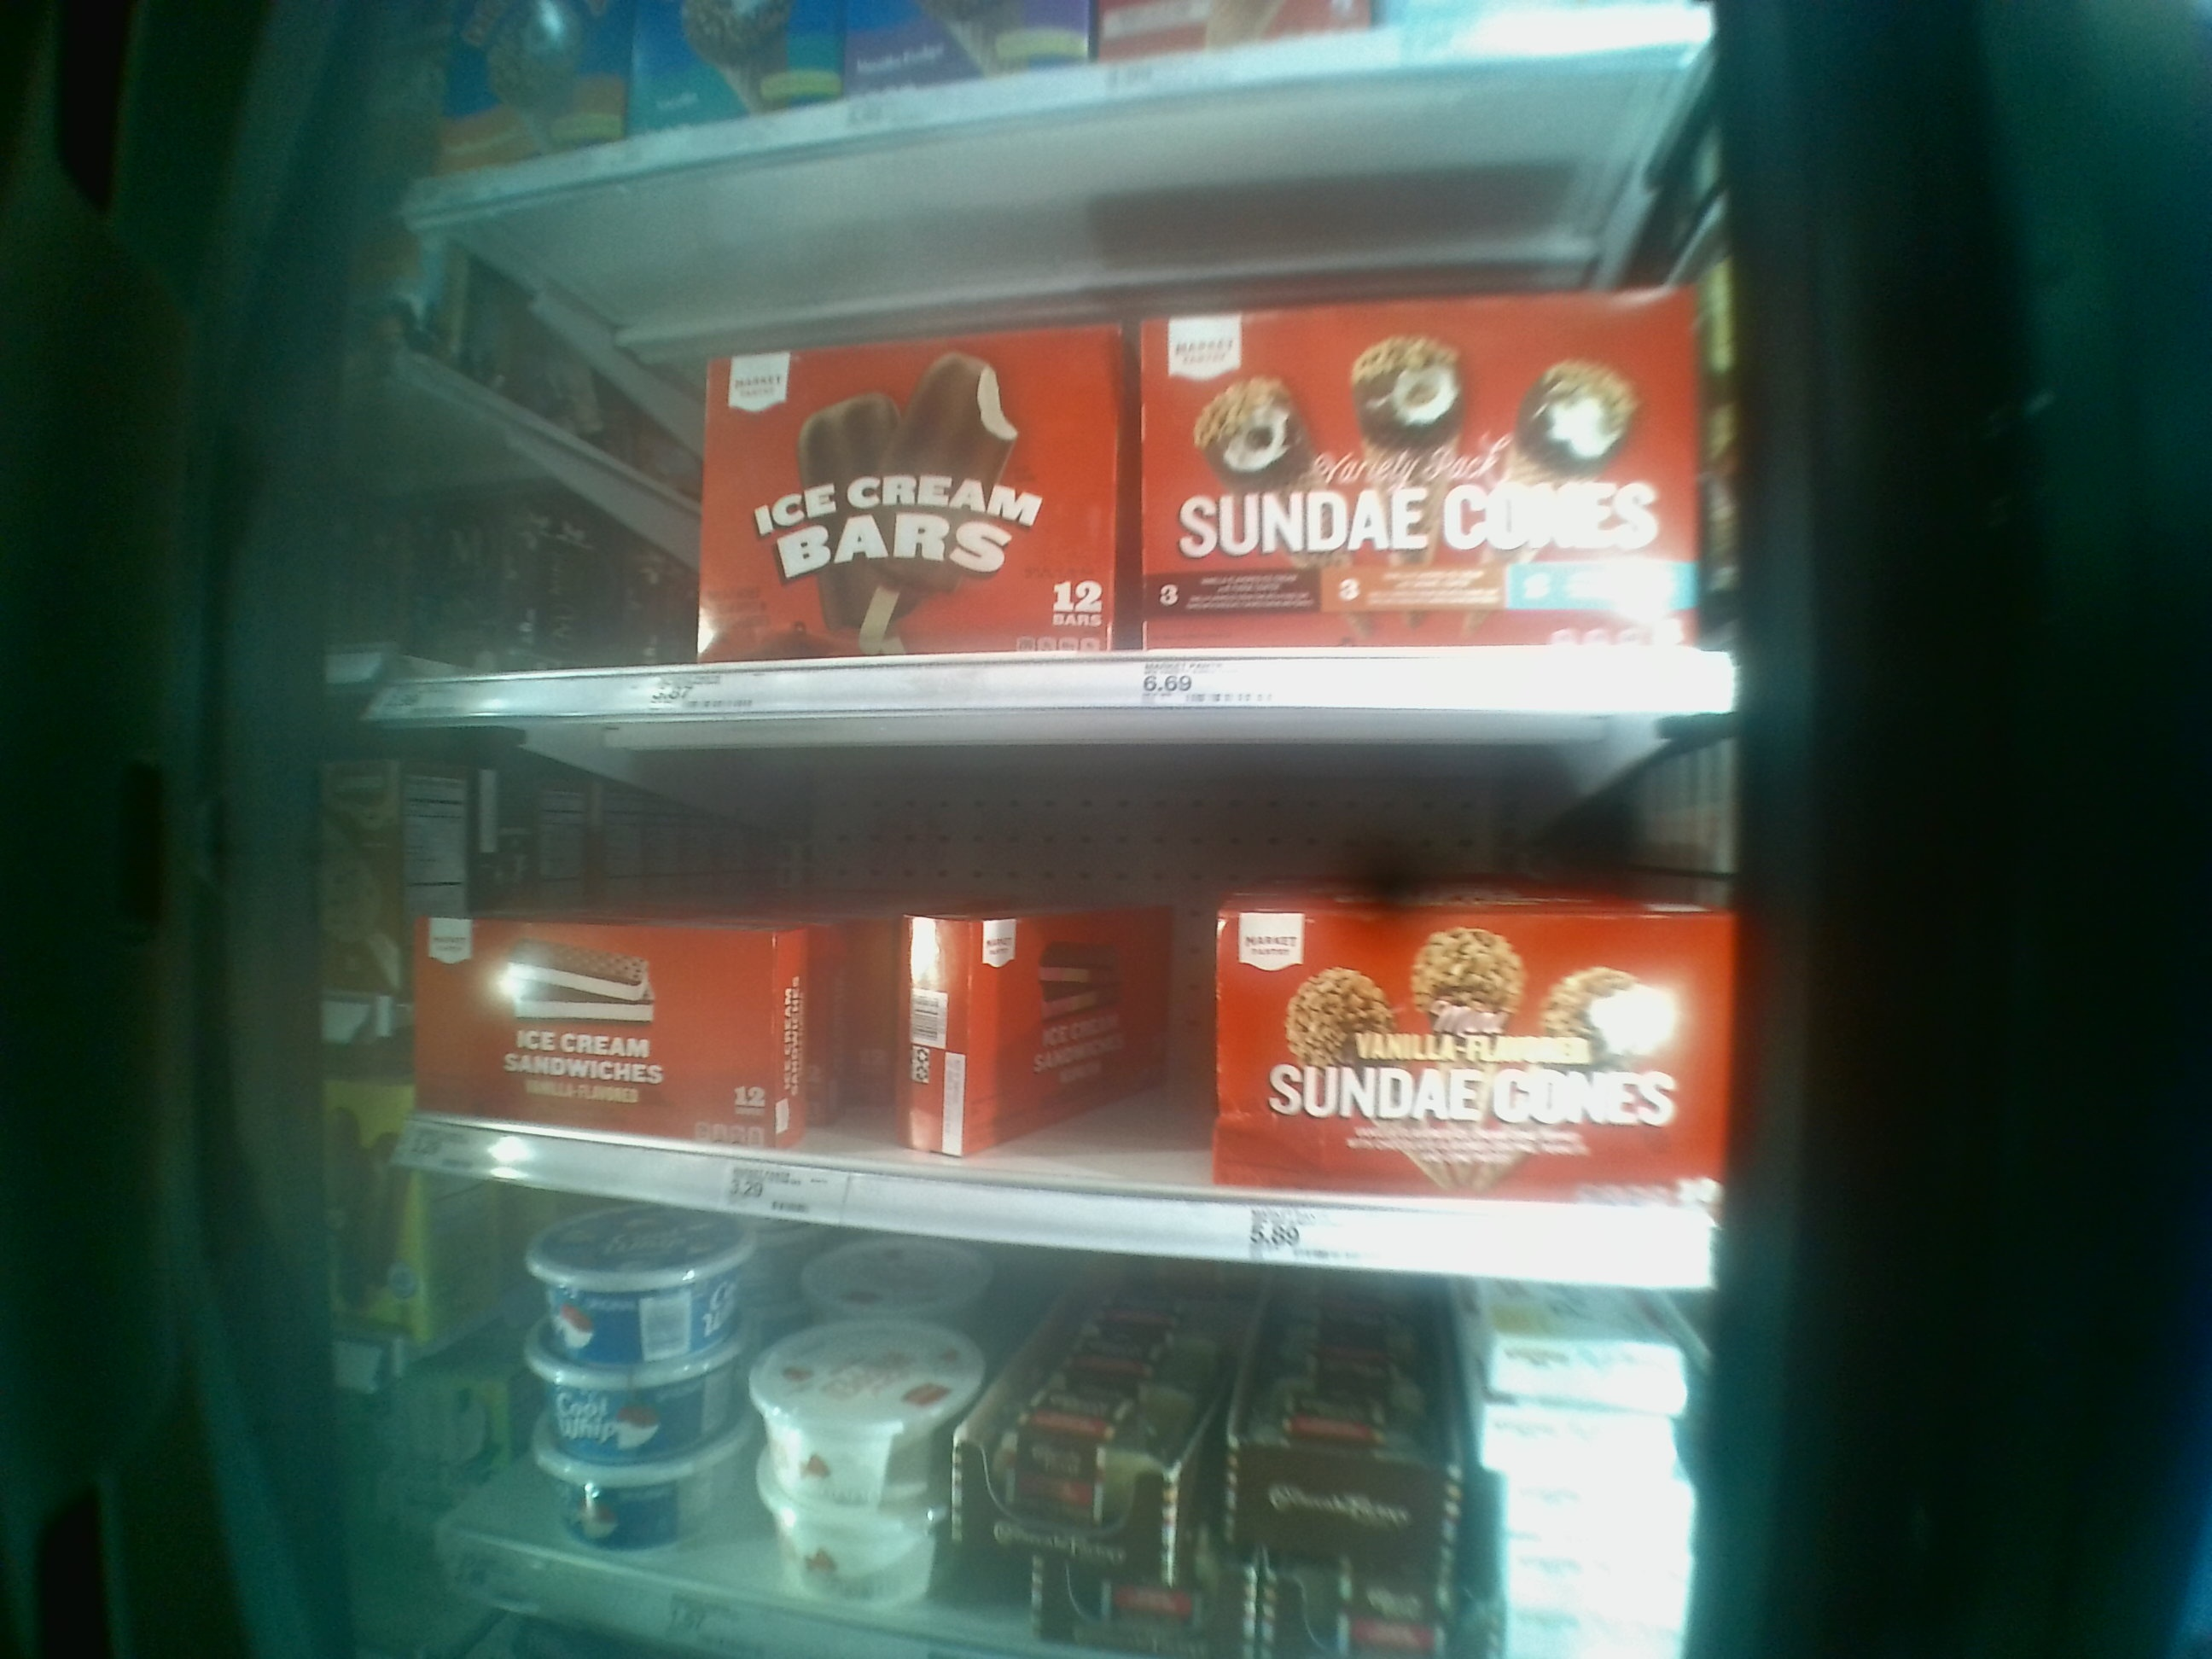shelf: (399, 54, 1735, 706), (343, 713, 1743, 1288)
